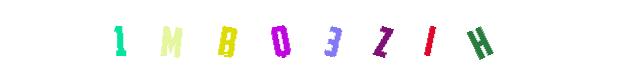1: (80, 0, 160, 80)
3: (275, 0, 355, 80)
B: (187, 0, 267, 80)
H: (439, 0, 519, 80)
I: (363, 0, 443, 80)
M: (162, 0, 242, 80)
Q: (240, 0, 320, 80)
Z: (312, 0, 392, 80)
